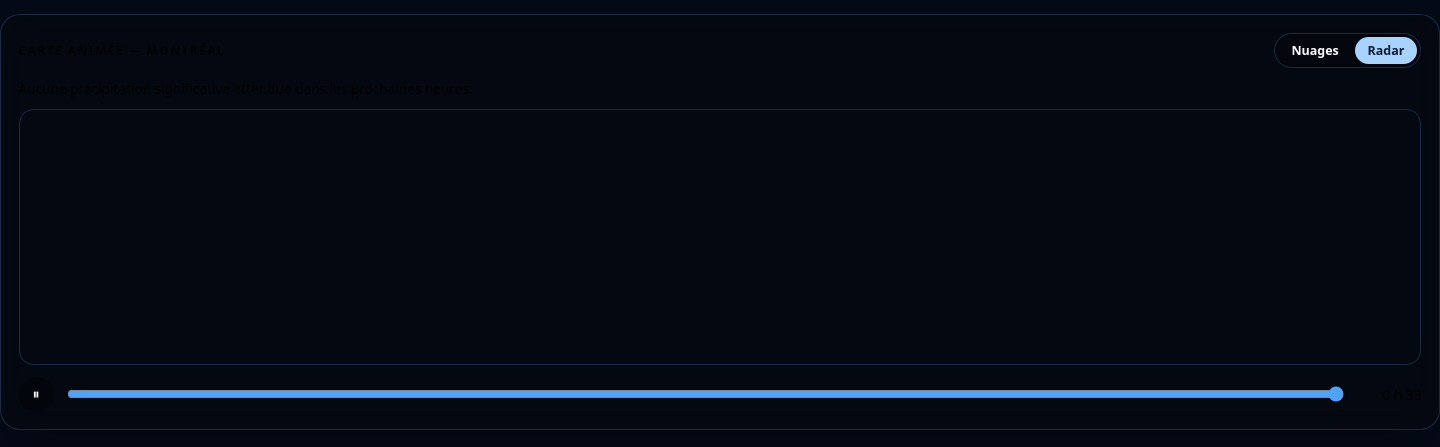
Test case: CarteNuages › affiche un message plutôt qu’une carte vide au clic manuel sur « Nuages » sans image disponible
Click the button "Nuages". click: (1315, 50)
box: [1279,37,1352,64]
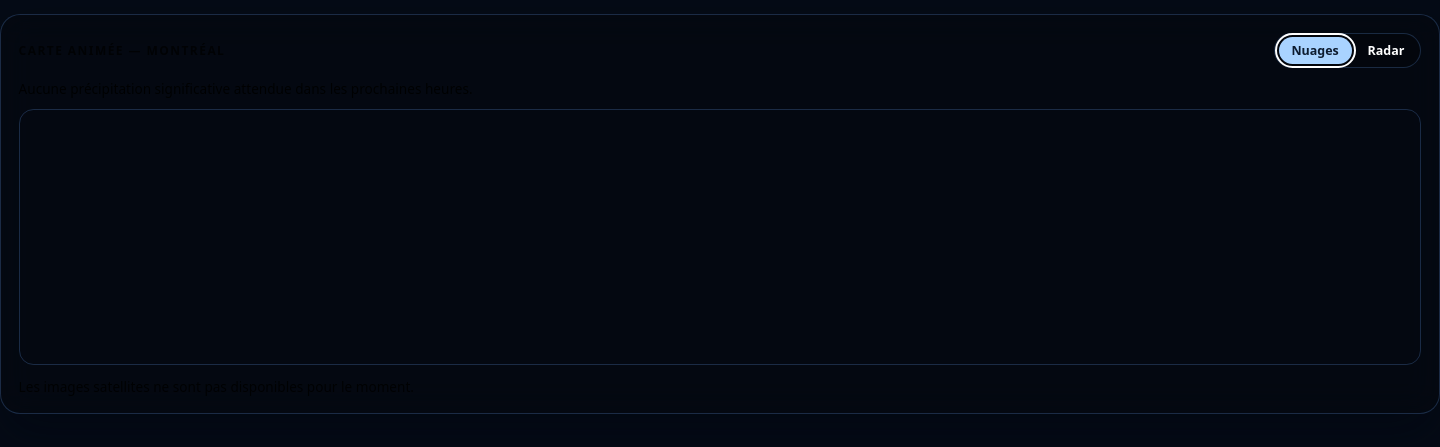
Result: the slider is gone
